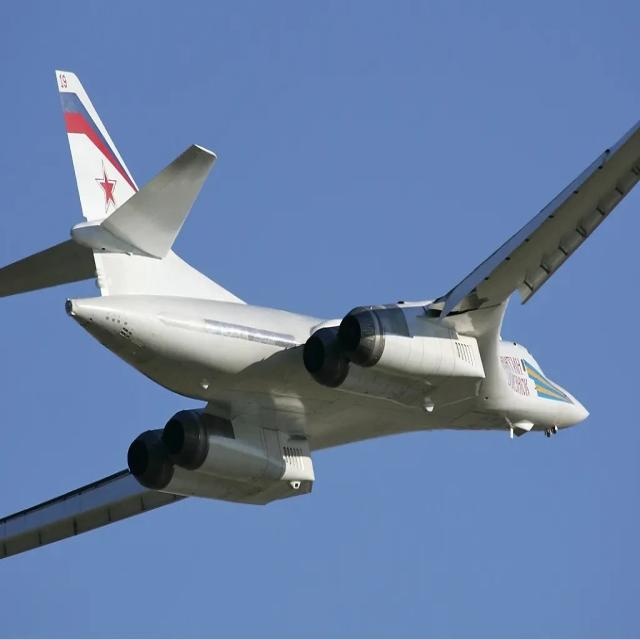Tu160: (4, 35, 640, 590)
